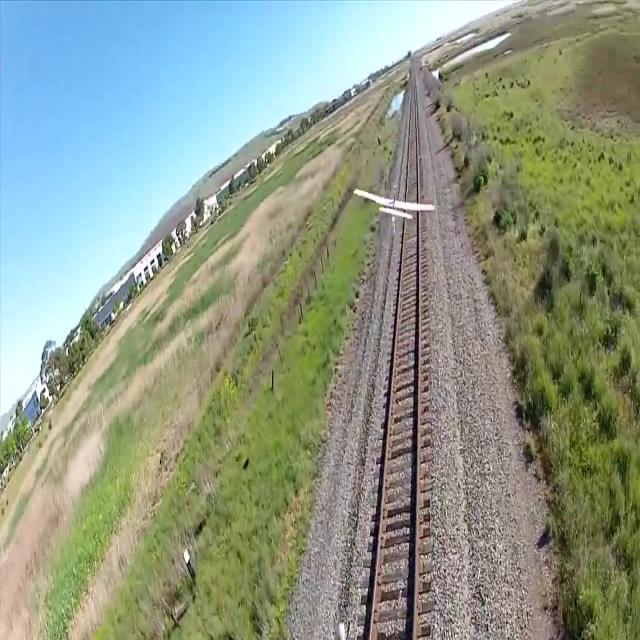iha: (379, 187, 397, 236)
